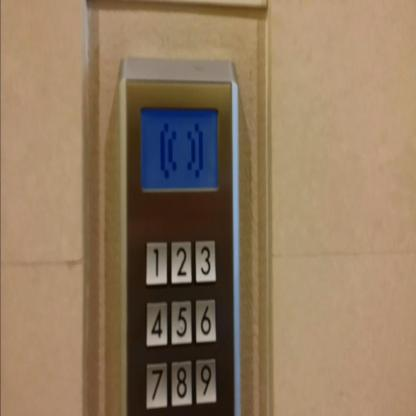1: (144, 238, 168, 286)
2: (170, 239, 192, 285)
3: (194, 237, 216, 284)
4: (144, 298, 168, 348)
5: (170, 298, 192, 346)
6: (194, 296, 218, 344)
7: (144, 360, 168, 409)
8: (169, 358, 193, 407)
9: (194, 356, 217, 405)
led: (138, 104, 218, 194)
